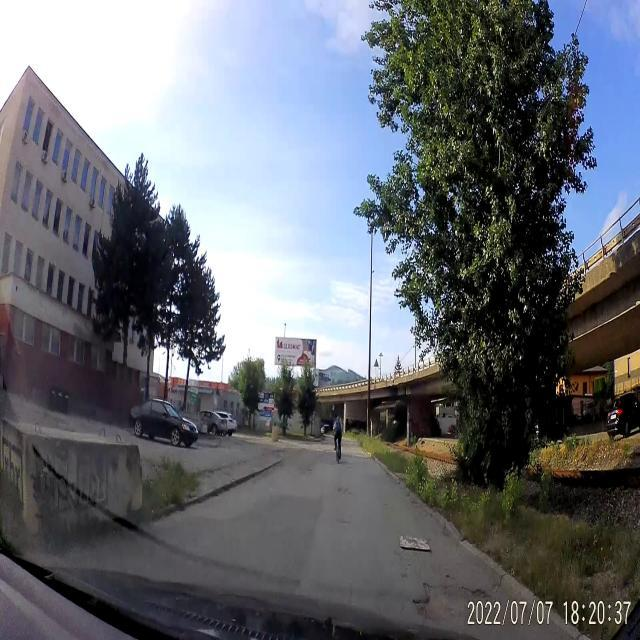Manhole: (394, 526, 440, 560)
Pothole: (413, 580, 498, 632)
